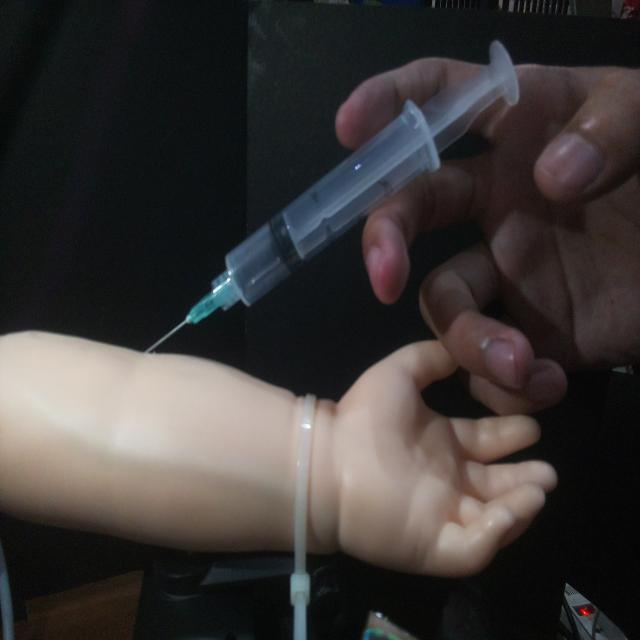29deg: (139, 37, 523, 357)
